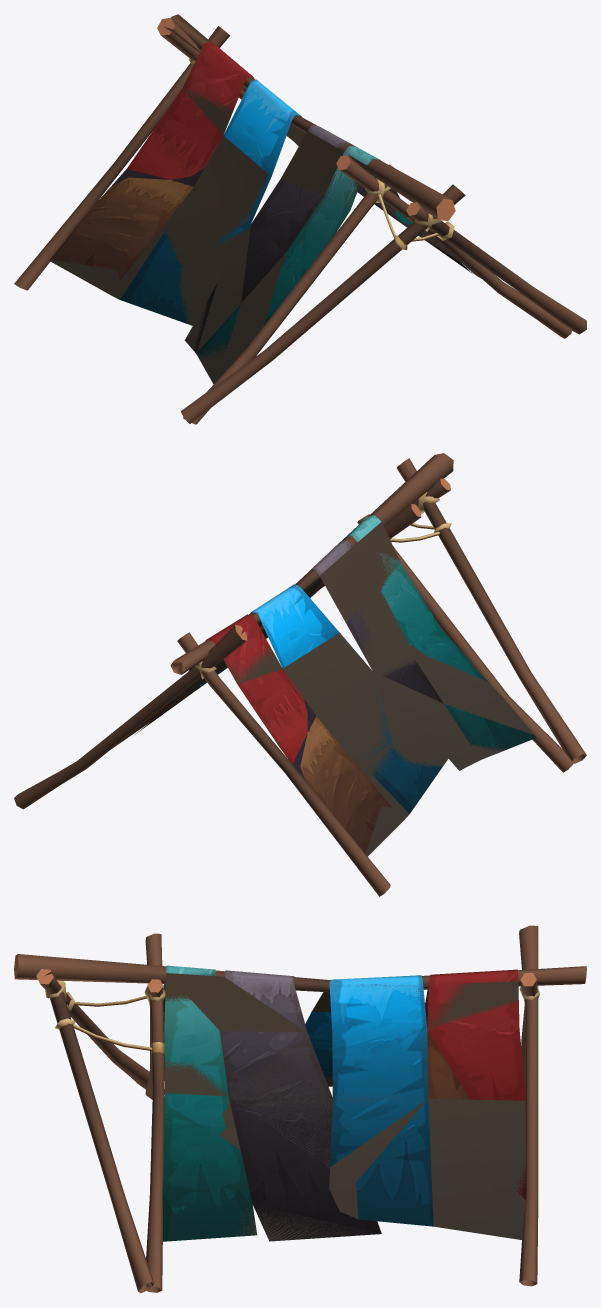
File: Tent_1E.fbx
The picture shows the model from 3 angles, top to bottom: view 1: azimuth 30°, elevation 25°; view 2: azimuth 150°, elevation 25°; view 3: azimuth 270°, elevation 25°; orthographic projection. The views are drawn at different scales.
Parts seen in each view (by area): view 1: Tent_1E; view 2: Tent_1E; view 3: Tent_1E.
Part boxes in pixels (<box>): Tent_1E: <box>14,14,586,424</box>; Tent_1E: <box>14,453,586,896</box>; Tent_1E: <box>14,925,586,1293</box>.
Bounding box in the file's own units: 521 × 299 × 604.
